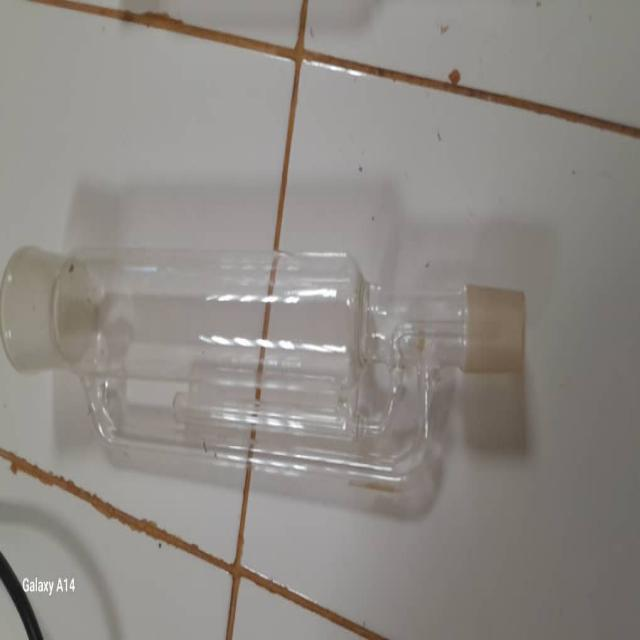Soxhlet: (3, 239, 539, 488)
